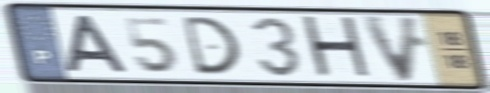3: (245, 15, 305, 80)
5: (121, 15, 181, 75)
A: (63, 13, 132, 74)
D: (178, 14, 243, 77)
H: (297, 14, 376, 83)
V: (357, 12, 425, 85)
